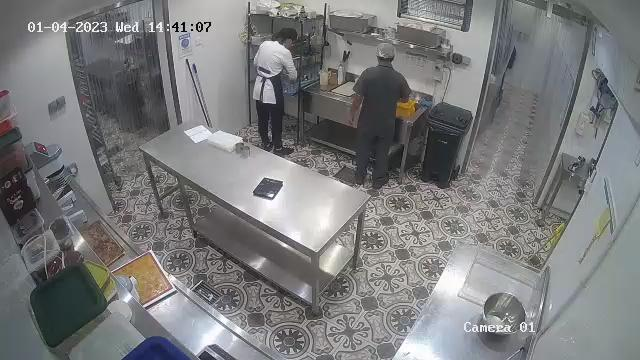apron: (253, 68, 280, 89)
